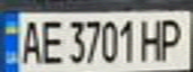0: (100, 17, 121, 64)
1: (118, 16, 139, 64)
3: (63, 17, 87, 65)
7: (81, 16, 103, 65)
A: (15, 16, 45, 65)
E: (36, 16, 66, 65)
H: (136, 15, 166, 63)
P: (157, 15, 187, 62)
